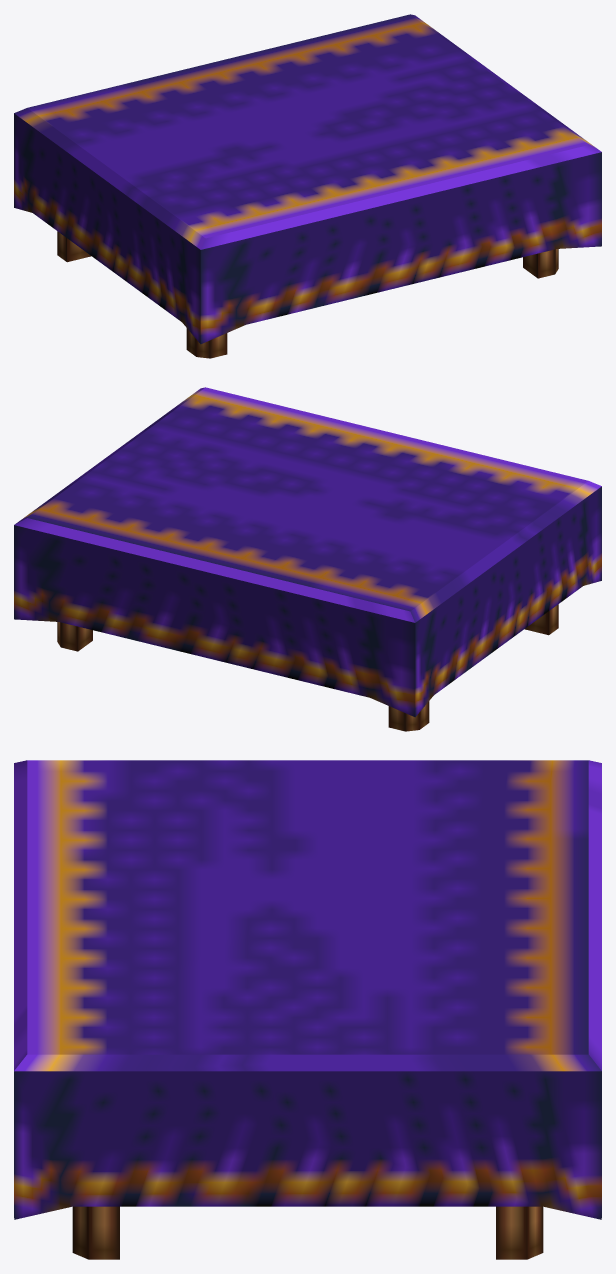
Rendered from Inside_Poly_Table_04.obj.
3 renders of one model, top to bottom at view 1: azimuth 30°, elevation 25°; view 2: azimuth 150°, elevation 25°; view 3: azimuth 270°, elevation 25°, orthographic. The views are drawn at different scales.
Visible parts, largest first — view 1: Cube_Cube.004, Cube.001; view 2: Cube_Cube.004, Cube.001; view 3: Cube_Cube.004, Cube.001.
Boxes of the visible parts, x1,y1,x2,y2 form: Cube_Cube.004: (14, 14, 601, 344); Cube.001: (57, 231, 558, 358); Cube_Cube.004: (14, 387, 601, 717); Cube.001: (57, 604, 558, 731); Cube_Cube.004: (14, 760, 601, 1219); Cube.001: (72, 1206, 543, 1259).
Bounding box in the file's own units: 1.55 × 0.5 × 1.25.
1 material, 1 textured.
